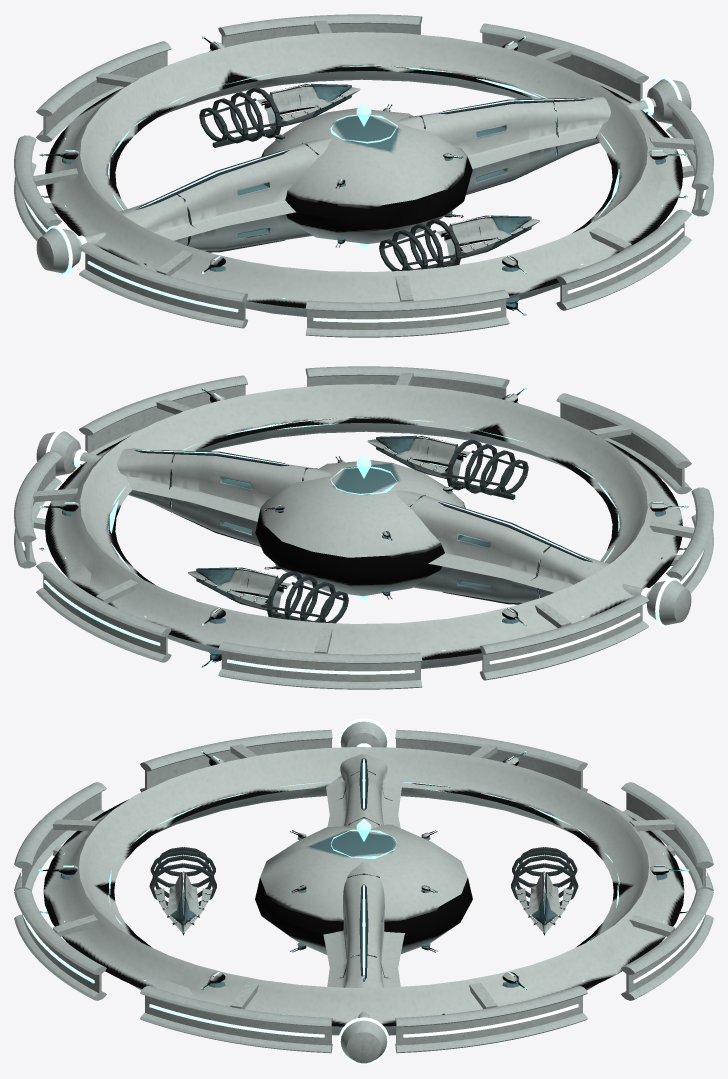
The model's file is Avanti_Shipyard_T2.fbx.
3 renders of one model, top to bottom at view 1: azimuth 30°, elevation 25°; view 2: azimuth 150°, elevation 25°; view 3: azimuth 270°, elevation 25°, orthographic.
Parts seen in each view (by area): view 1: Hull_LOD0; view 2: Hull_LOD0; view 3: Hull_LOD0.
Part boxes in pixels (<box>): Hull_LOD0: <box>14,14,713,337</box>; Hull_LOD0: <box>14,366,713,689</box>; Hull_LOD0: <box>14,718,713,1064</box>.
Size of what is drawn, in the model's own units: 15798 by 3400 by 14732.
